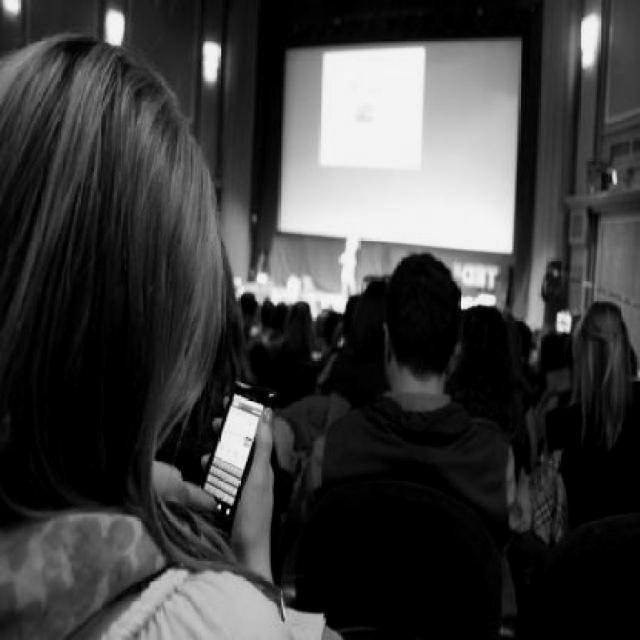fake: (193, 380, 273, 526)
